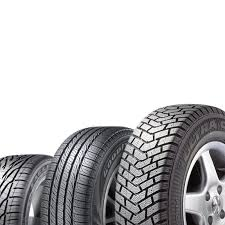tire: (115, 103, 225, 225), (40, 126, 134, 225), (1, 153, 52, 225)
